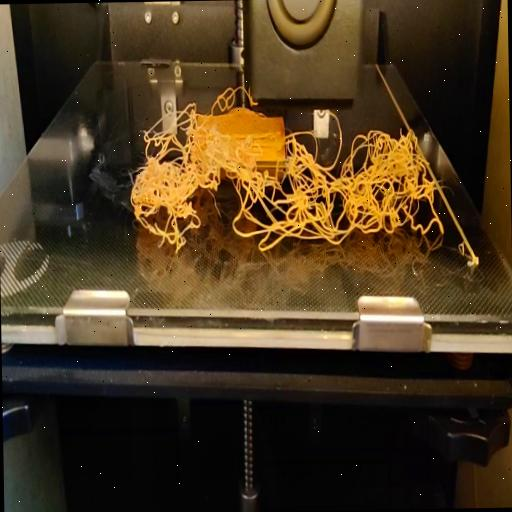spaghetti: (310, 110, 447, 248), (129, 101, 220, 254), (218, 118, 312, 256), (215, 79, 255, 112)
